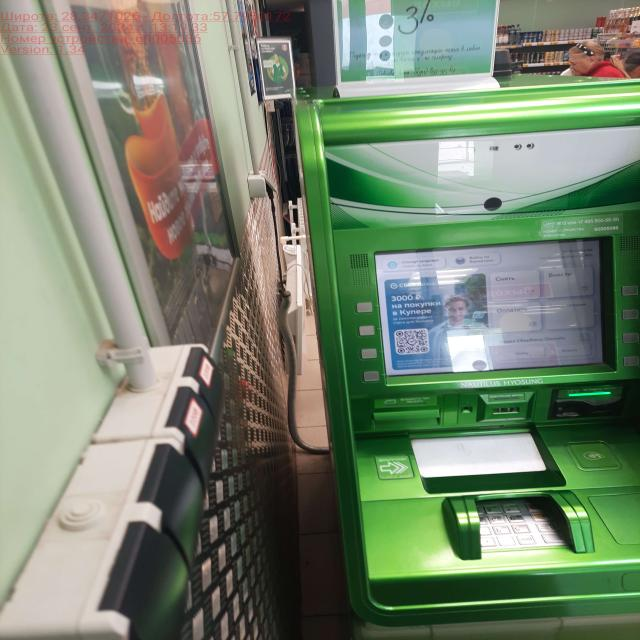bank: (288, 72, 640, 640)
